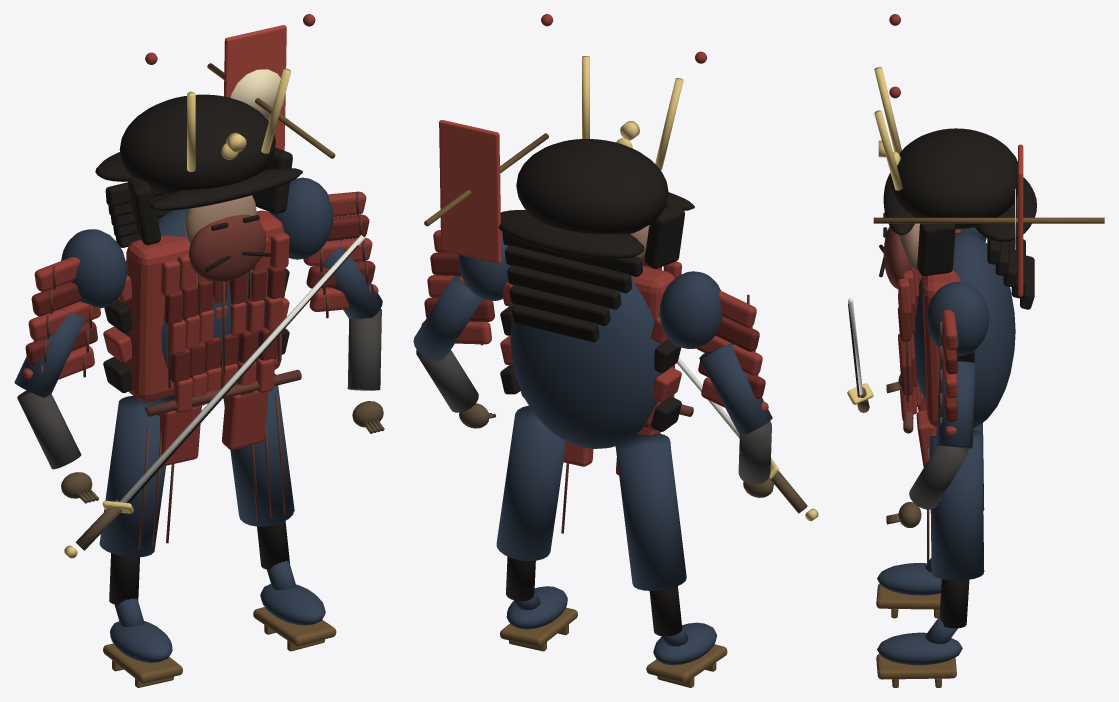
File: takeda-02.glb
The picture shows the model from 3 angles, left to right: view 1: azimuth 30°, elevation 25°; view 2: azimuth 150°, elevation 25°; view 3: azimuth 270°, elevation 25°; orthographic projection. The views are drawn at different scales.
Visible parts, largest first — view 1: kabuto_helmet_bowl, do_cuirass_core, left_hakama_outer_fold, right_hakama_outer_fold, mempo_cheek_mask, left_rounded_shoulder_undercloth, right_rounded_shoulder_undercloth, banner_cloth, left_forearm_kote, helmet_front_brim, right_forearm_kote, left_upper_arm_cloth (+48 smaller); view 2: cloth_torso_underlayer, kabuto_helmet_bowl, left_hakama_outer_fold, banner_cloth, right_hakama_outer_fold, left_rounded_shoulder_undercloth, helmet_rear_flare, left_upper_arm_cloth, right_upper_arm_cloth, shikoro_neck_guard_1, shikoro_neck_guard_2, shikoro_neck_guard_3 (+24 smaller); view 3: kabuto_helmet_bowl, cloth_torso_underlayer, right_hakama_outer_fold, right_rounded_shoulder_undercloth, right_upper_arm_cloth, right_forearm_kote, right_tabi_sock, do_cuirass_core, right_fukigaeshi_flare, left_tabi_sock, banner_pole, right_geta_sole (+17 smaller).
Part boxes in pixels (x1,y1,x2,y2): kabuto_helmet_bowl: (119,94,275,194); do_cuirass_core: (124,210,283,401); left_hakama_outer_fold: (99,396,165,557); right_hakama_outer_fold: (223,373,294,526); mempo_cheek_mask: (188,214,266,282); left_rounded_shoulder_undercloth: (61,229,126,308); right_rounded_shoulder_undercloth: (268,177,333,259); banner_cloth: (224,25,286,150); left_forearm_kote: (17,390,81,469); helmet_front_brim: (150,168,302,210); right_forearm_kote: (347,309,381,390); left_upper_arm_cloth: (14,308,85,397); cloth_torso_underlayer: (510,276,662,448); kabuto_helmet_bowl: (516,139,668,233); left_hakama_outer_fold: (615,433,686,590); banner_cloth: (439,120,501,263); right_hakama_outer_fold: (496,405,566,561); left_rounded_shoulder_undercloth: (659,271,722,348); helmet_rear_flare: (498,210,644,258); left_upper_arm_cloth: (699,343,772,435); right_upper_arm_cloth: (413,276,482,360); shikoro_neck_guard_1: (505,245,632,293); shikoro_neck_guard_2: (507,265,621,309); shikoro_neck_guard_3: (509,284,610,325); kabuto_helmet_bowl: (890,128,1017,229); cloth_torso_underlayer: (913,232,1015,428); right_hakama_outer_fold: (930,430,984,580); right_rounded_shoulder_undercloth: (926,282,989,356); right_upper_arm_cloth: (936,361,975,448); right_forearm_kote: (909,445,968,509); right_tabi_sock: (877,632,962,665); do_cuirass_core: (922,229,961,427); right_fukigaeshi_flare: (917,223,955,275); left_tabi_sock: (877,563,941,595); banner_pole: (873,217,1104,223); right_geta_sole: (876,654,956,679).
Size of the model in its own units: 1.19 by 1.99 by 0.7802.
